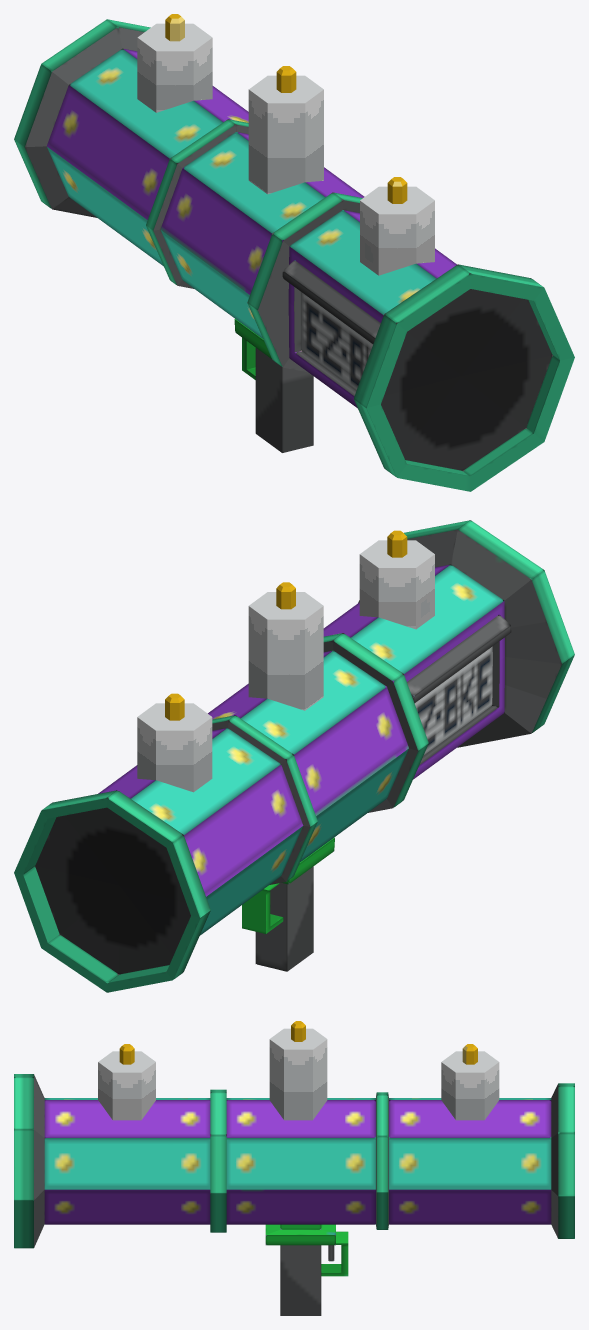
The model's file is CakeZooka.fbx.
3 views of the same model, one above another, from view 1: azimuth 30°, elevation 25°; view 2: azimuth 150°, elevation 25°; view 3: azimuth 270°, elevation 25° (orthographic). The views are drawn at different scales.
Parts seen in each view (by area): view 1: CakeZooka, Candles; view 2: CakeZooka, Candles; view 3: CakeZooka, Candles.
Boxes of the visible parts, box(x1,y1,x2,y2) form: CakeZooka: box(14, 19, 574, 491); Candles: box(137, 14, 434, 275); CakeZooka: box(14, 520, 574, 992); Candles: box(137, 530, 434, 792); CakeZooka: box(14, 1074, 574, 1315); Candles: box(98, 1021, 499, 1120).
Bounding box in the file's own units: 275 × 470 × 832.
Materials: 2 (2 with a texture image).
